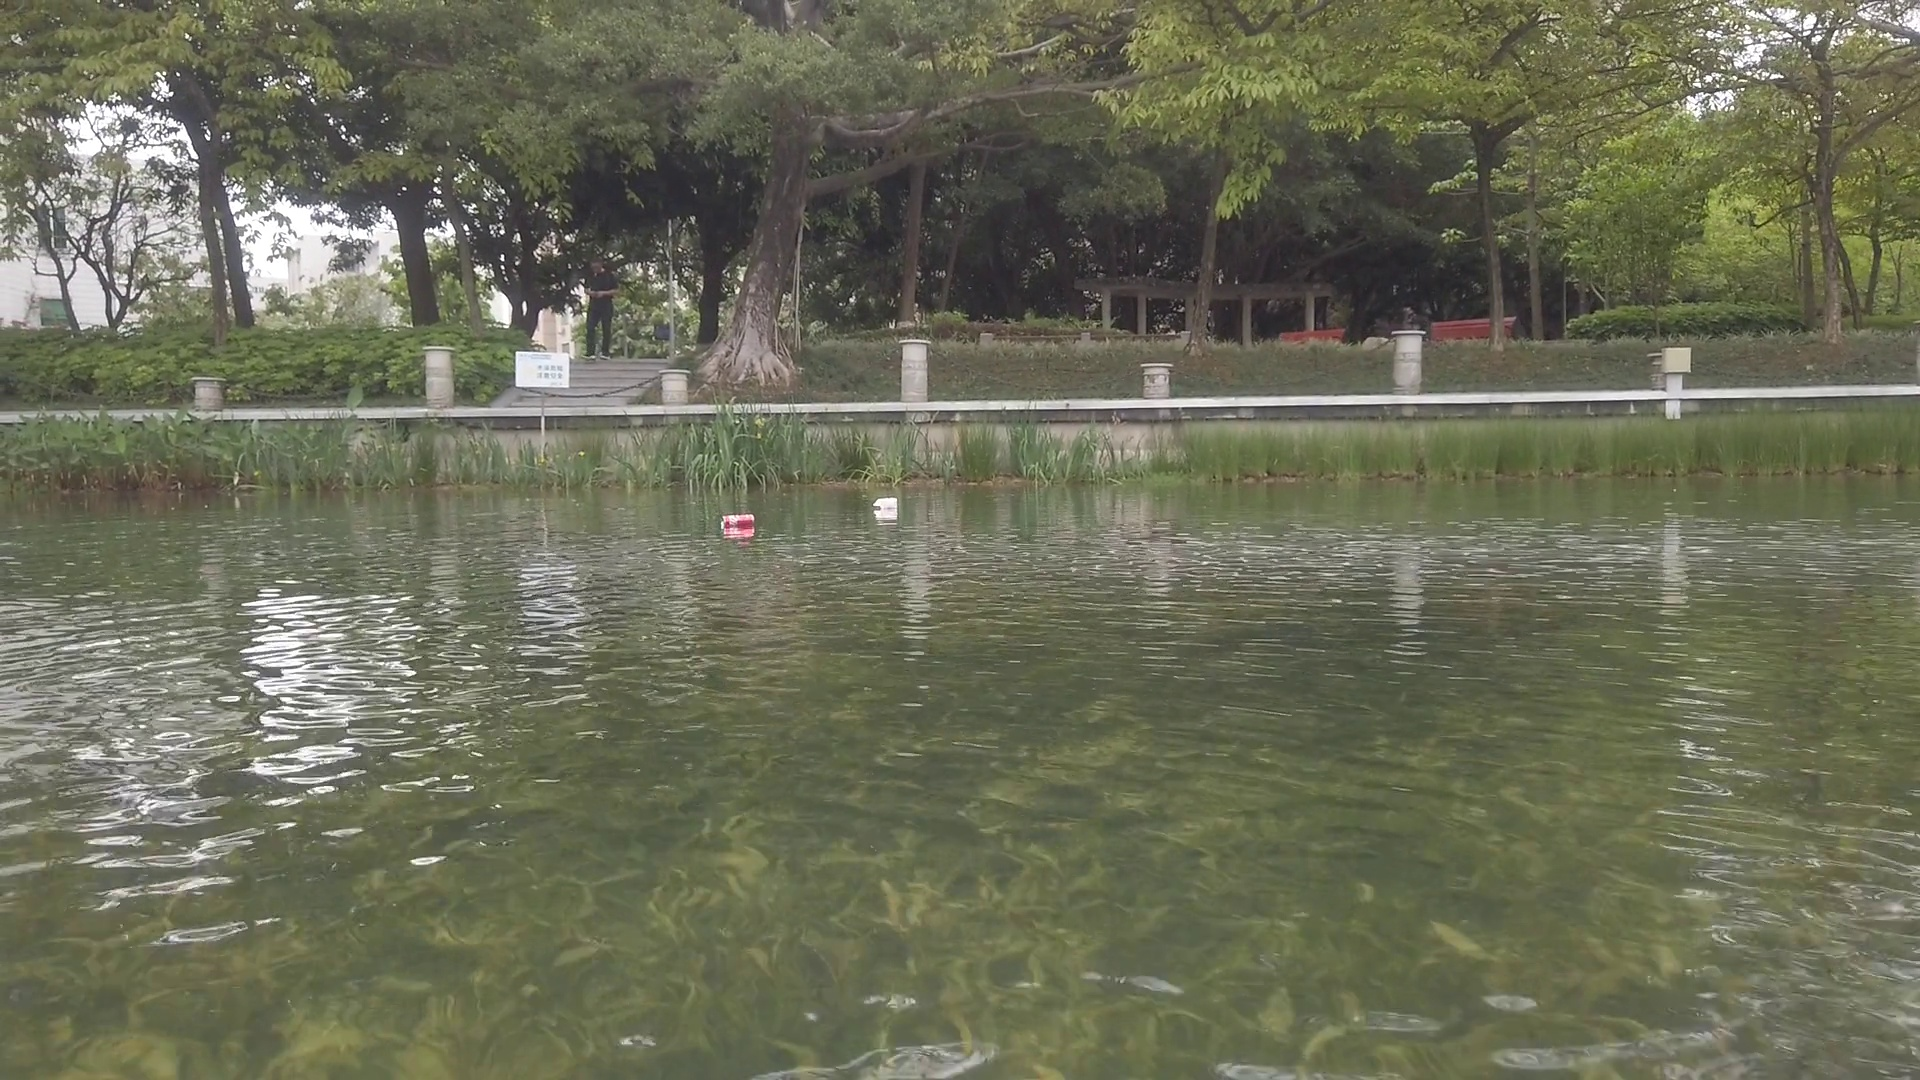bottle: (723, 514, 756, 527)
carton: (874, 495, 897, 509)
